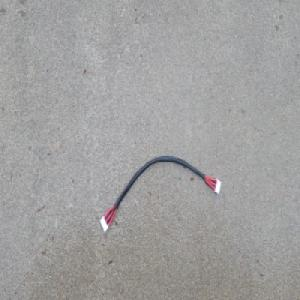Wire: (98, 154, 222, 234)
